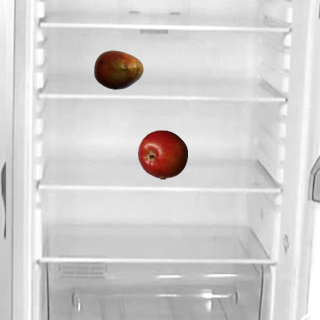Apple Braeburn: (137, 129, 187, 179)
Mango Red: (93, 44, 143, 94)
